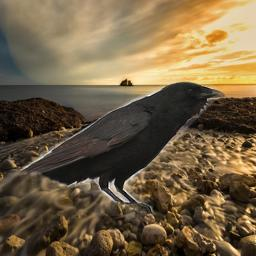Crow: (20, 79, 226, 216)
